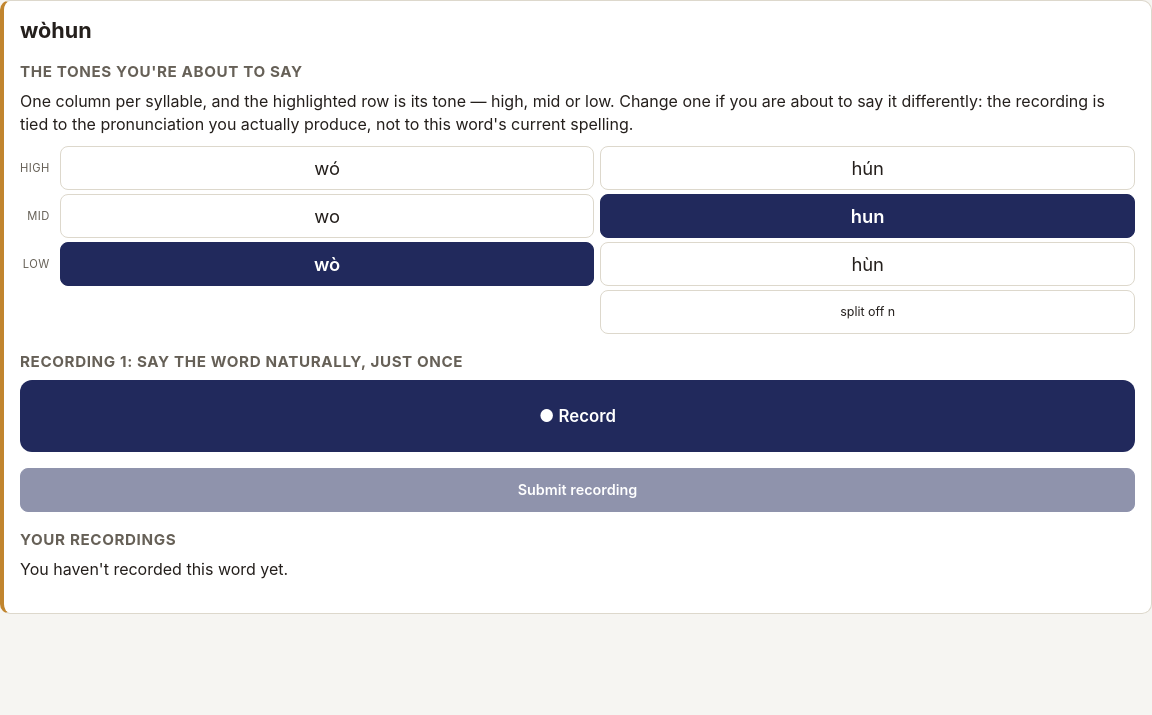
Test: AudioRecording › records recording 1, then recording 2, segments it, and reports a matching syllable count
Expected: the heading "wòhun" is shown, [20, 17, 92, 43]
What coordinates should you click on to do the following:
click the button "● Record"
I would click on:
 (578, 416)
Its box is [20, 380, 1135, 452].
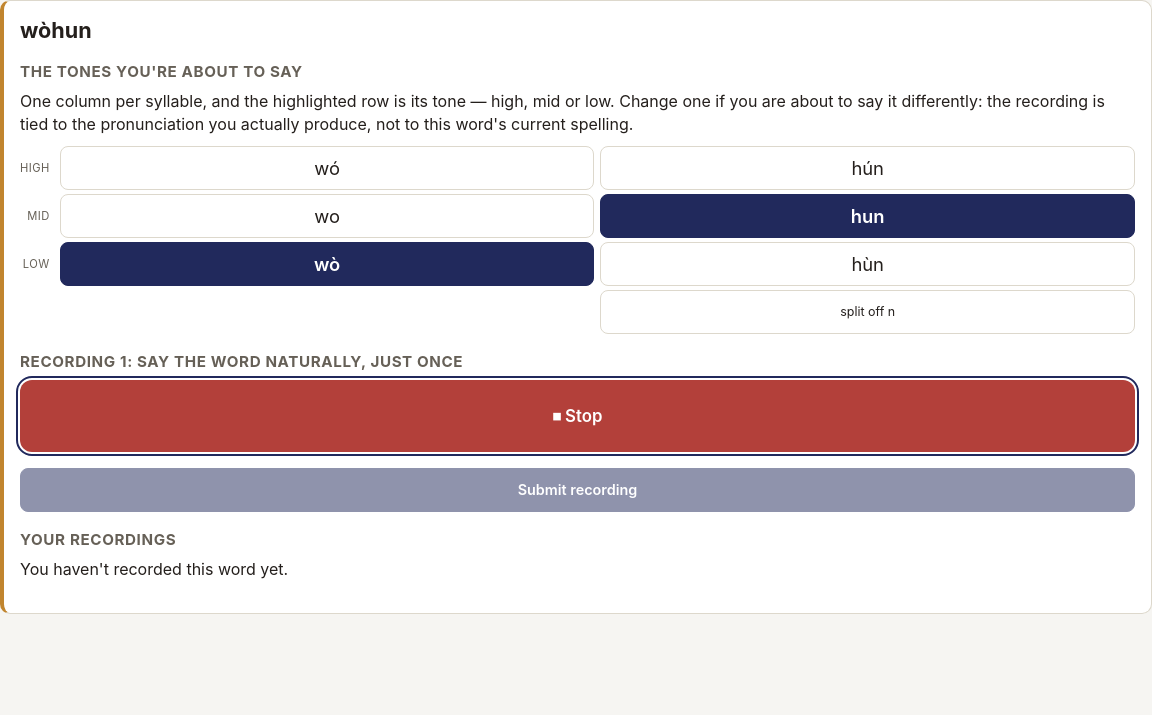
What coordinates should you click on to do the following:
click the button "⏹ Stop"
I would click on:
 (578, 416)
Its box is [20, 380, 1135, 452].
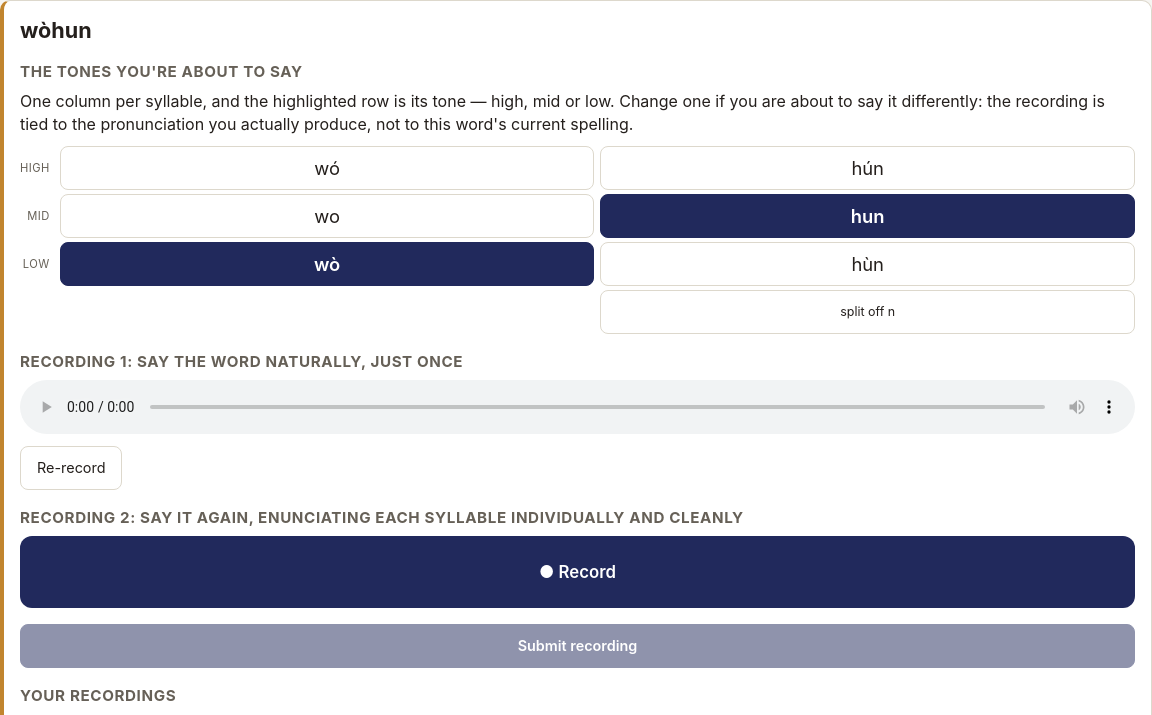
What coordinates should you click on to do the following:
click the button "● Record"
I would click on:
 (578, 572)
Its box is [20, 536, 1135, 608].
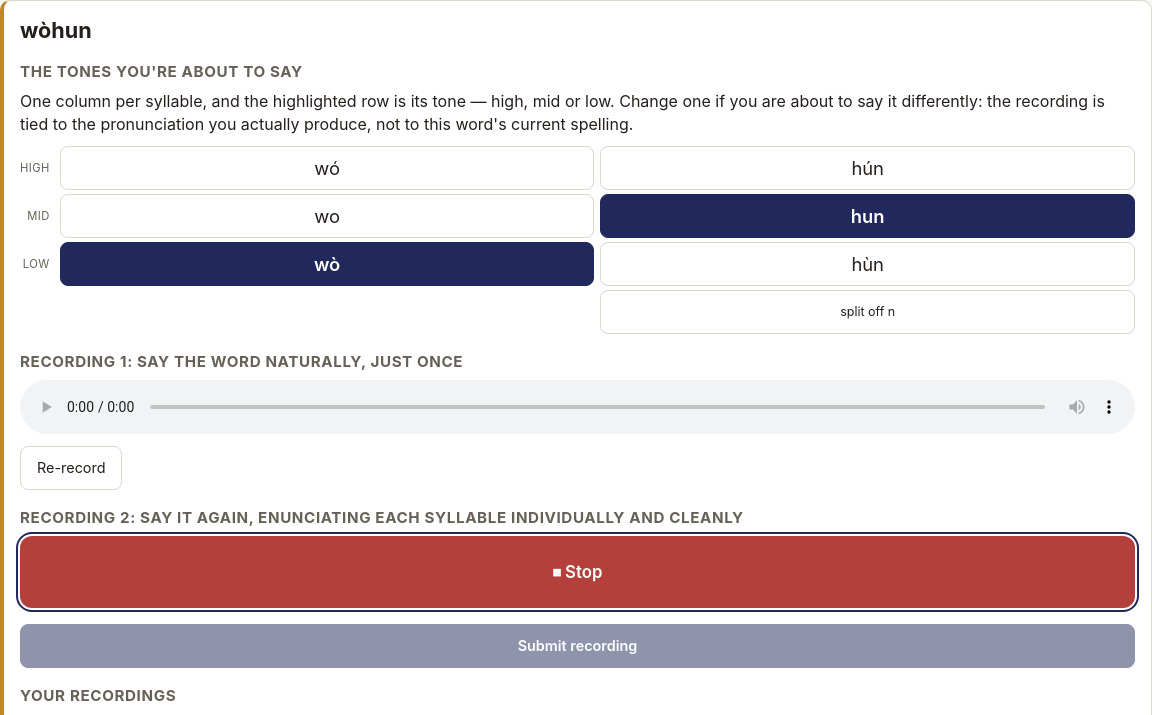
What coordinates should you click on to do the following:
click the button "⏹ Stop"
I would click on:
 (578, 572)
Its box is [20, 536, 1135, 608].
(page scrolled)
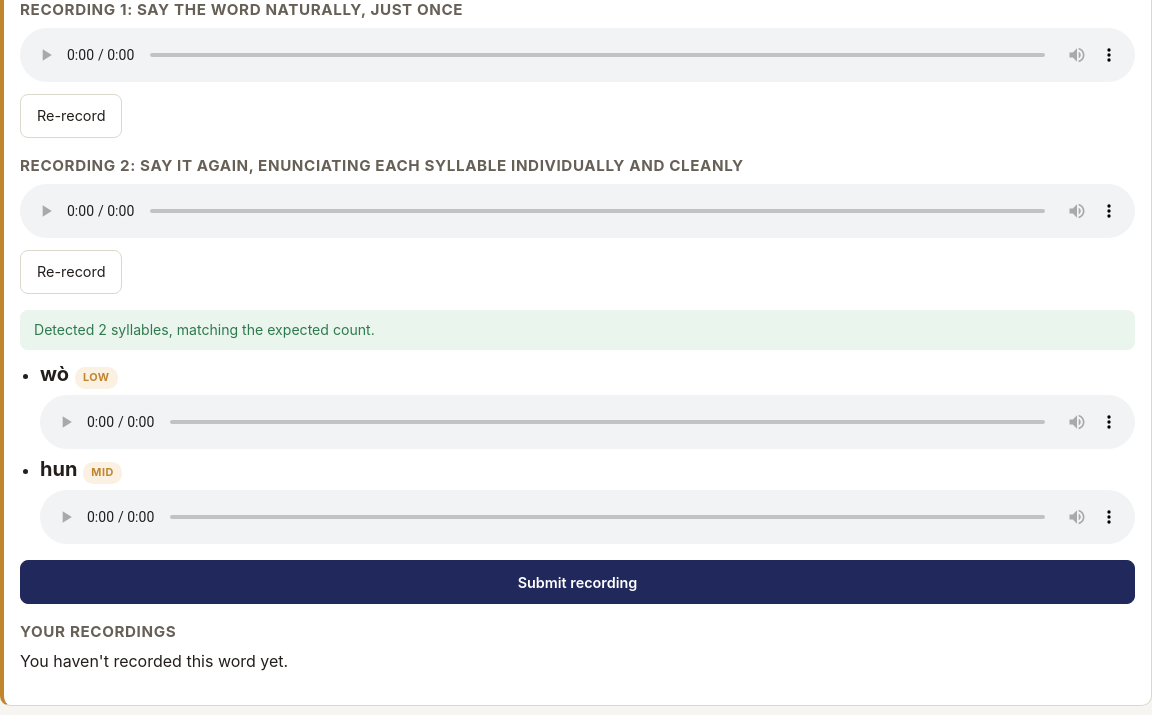
Expected: the text "Detected 2 syllables, matching the expected count." is shown, [20, 310, 1135, 350]
Expected: the button "Submit recording" is enabled, [20, 560, 1135, 604]
